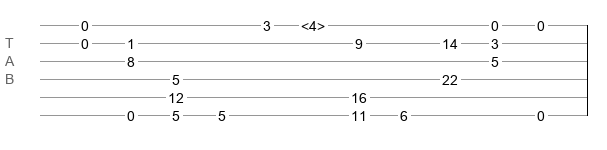0: (81, 18, 89, 28), (81, 36, 89, 46), (127, 108, 135, 118), (491, 18, 499, 28), (537, 18, 545, 28), (537, 108, 545, 118)
1: (127, 36, 135, 46)
11: (351, 108, 367, 118)
12: (168, 90, 184, 100)
14: (442, 36, 458, 46)
16: (351, 90, 367, 100)
22: (442, 72, 458, 82)
3: (263, 18, 271, 28), (491, 36, 499, 46)
5: (172, 72, 180, 82), (172, 108, 180, 118), (218, 108, 226, 118), (491, 54, 499, 64)
6: (400, 108, 408, 118)
8: (127, 54, 135, 64)
9: (355, 36, 363, 46)
harmonic: (301, 18, 325, 28)
